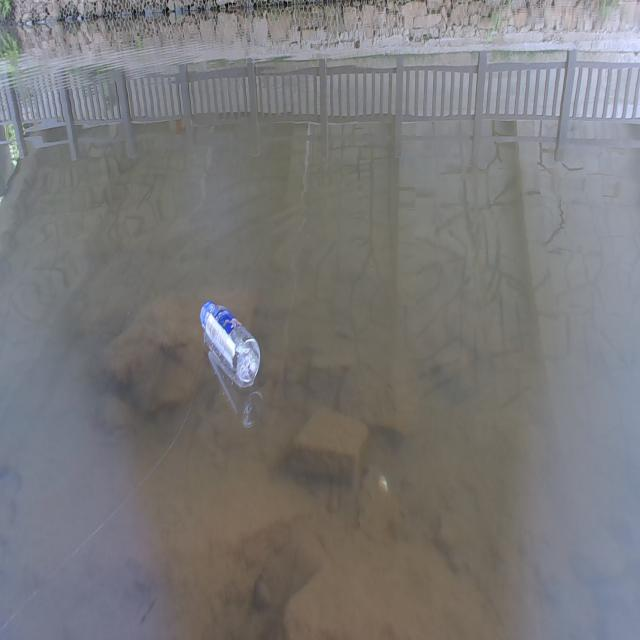Bottle: (198, 294, 261, 389)
